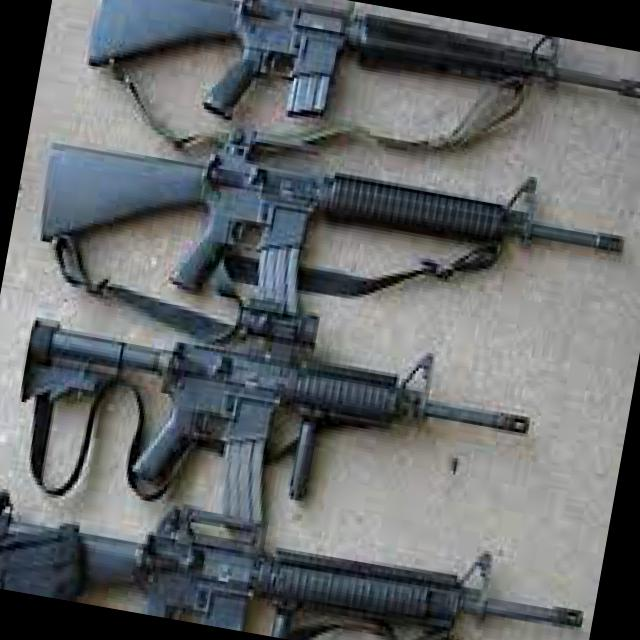long weapon: (17, 53, 595, 363), (0, 267, 540, 541), (0, 444, 514, 639), (69, 0, 591, 173)
